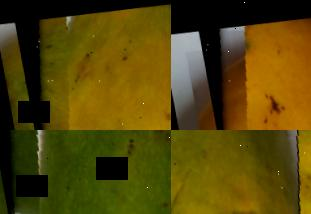PartiallyRipe: (17, 0, 171, 130), (171, 130, 311, 214)
Ripe: (200, 3, 311, 130)
Unripe: (0, 130, 171, 214)
